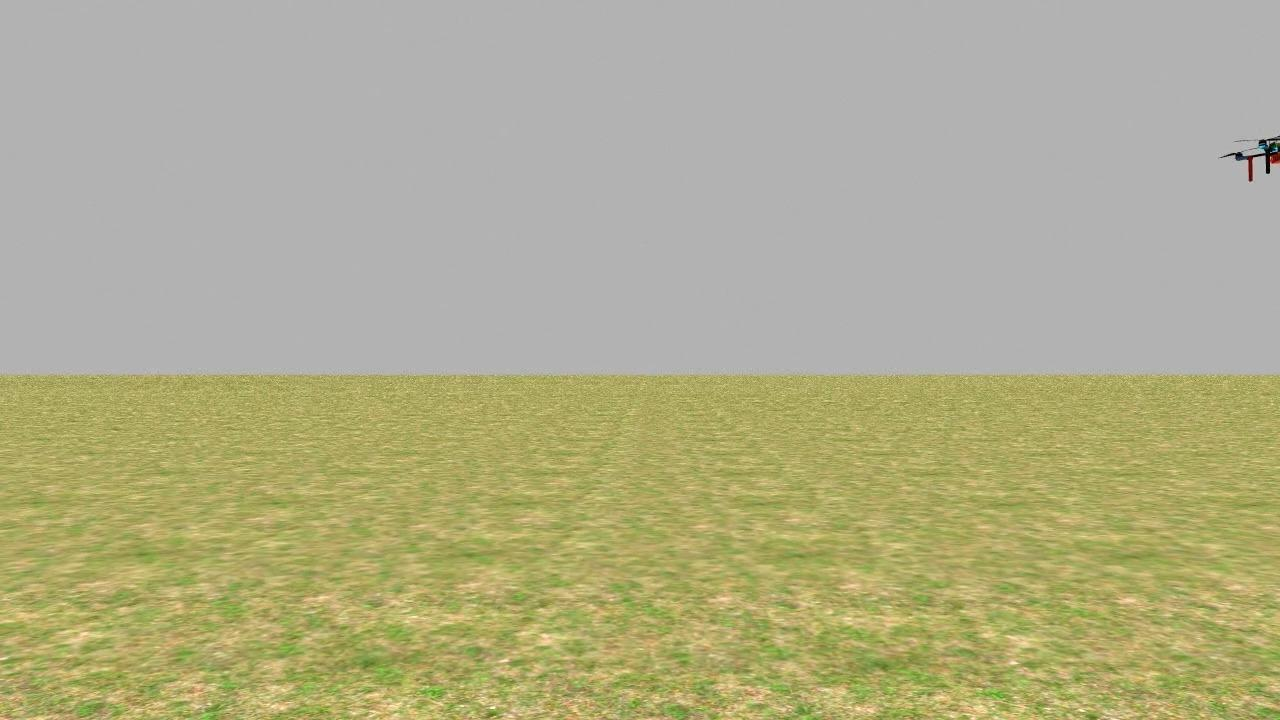UAV: (1218, 121, 1280, 195)
